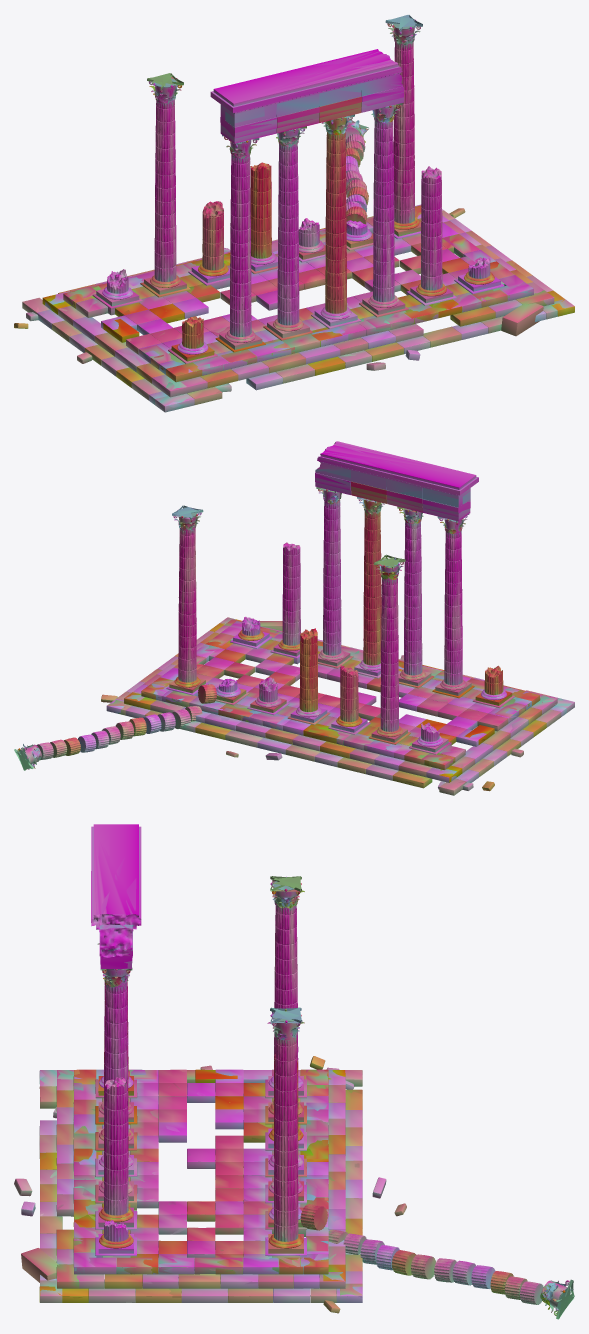
File: colossal_temple.glb
3 views of the same model, one above another, from view 1: azimuth 30°, elevation 25°; view 2: azimuth 150°, elevation 25°; view 3: azimuth 270°, elevation 25° (orthographic). The views are drawn at different scales.
Visible parts, largest first — view 1: ColossalTemple, ColossalTemple_lod; view 2: ColossalTemple, ColossalTemple_lod; view 3: ColossalTemple, ColossalTemple_lod.
Part boxes in pixels (x1,y1,x2,y2): ColossalTemple: (14,15,574,412); ColossalTemple_lod: (15,15,557,406); ColossalTemple: (14,441,574,795); ColossalTemple_lod: (14,441,574,790); ColossalTemple: (14,824,574,1319); ColossalTemple_lod: (14,824,574,1319).
Size of the model in its own units: 63.52 by 36.78 by 59.45.
